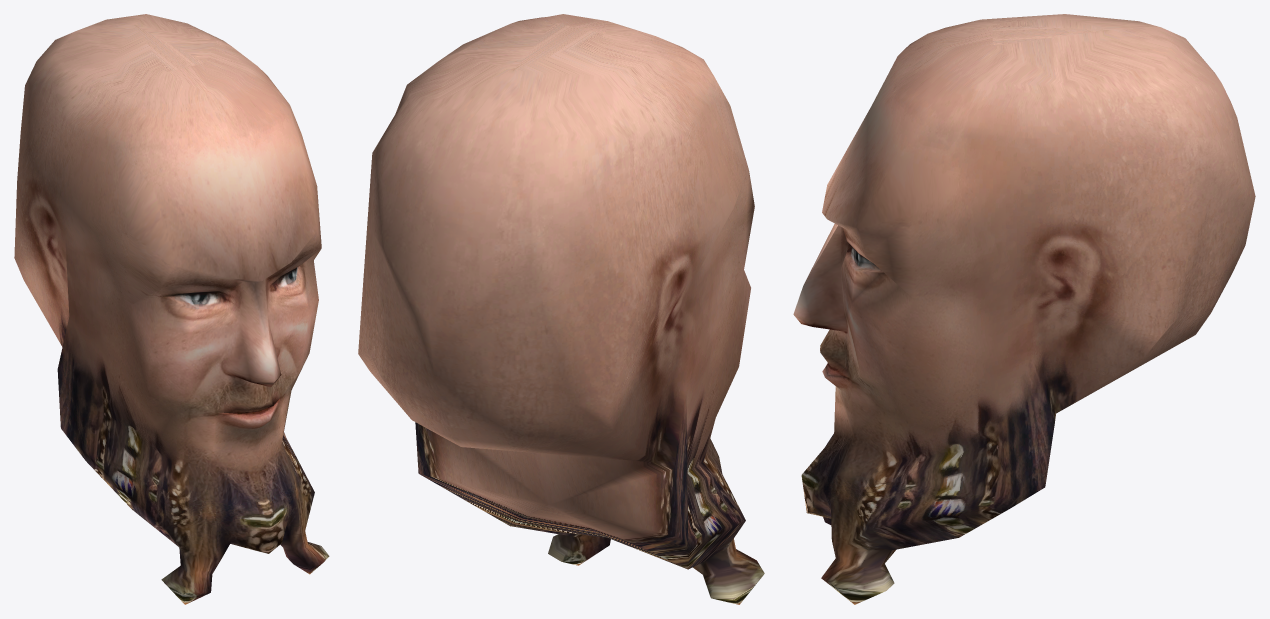
The model's file is b_n_nord_m_head_01.glb.
The picture shows the model from 3 angles, left to right: view 1: azimuth 30°, elevation 25°; view 2: azimuth 150°, elevation 25°; view 3: azimuth 270°, elevation 25°; orthographic projection. The views are drawn at different scales.
Parts seen in each view (by area): view 1: Tri B_N_Nord_M_Head_01; view 2: Tri B_N_Nord_M_Head_01; view 3: Tri B_N_Nord_M_Head_01.
Boxes of the visible parts, x1,y1,x2,y2 form: Tri B_N_Nord_M_Head_01: [14, 14, 329, 604]; Tri B_N_Nord_M_Head_01: [358, 14, 764, 604]; Tri B_N_Nord_M_Head_01: [793, 14, 1255, 604].
Size of the model in its own units: 0.0957 by 0.1953 by 0.1513.
1 material, 1 textured.
